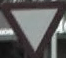Give way: (1, 1, 61, 54)
